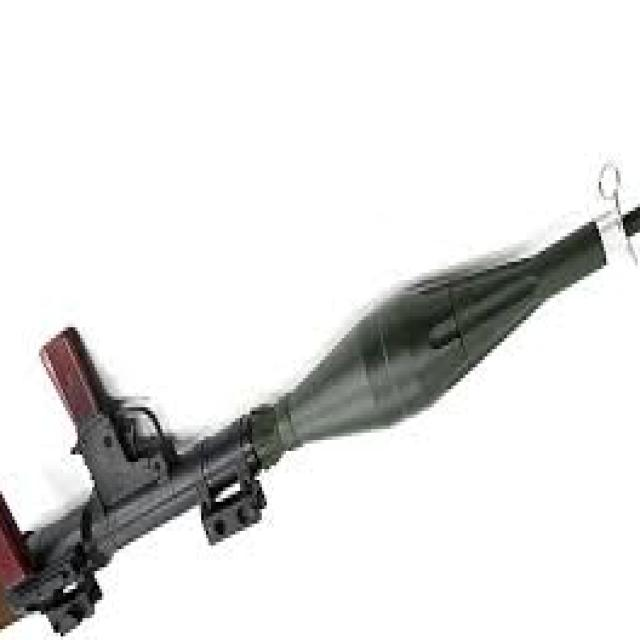Gun: (0, 135, 640, 640)
